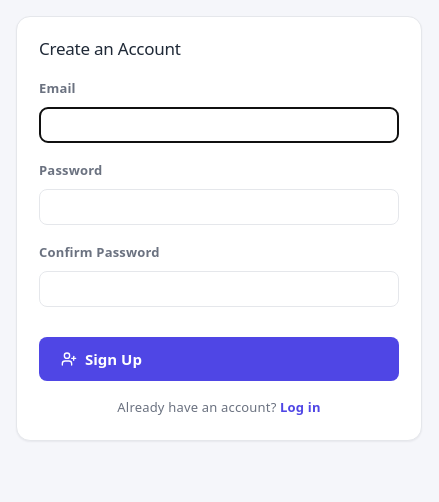
Test: CustomerRegisterPage › shows a specific error when the email is already registered
This screenshot has width=439, height=502.
Type "alice@example.com" into the field labelled "Email". click: {"x": 219, "y": 125}
box: [39,107,399,143]
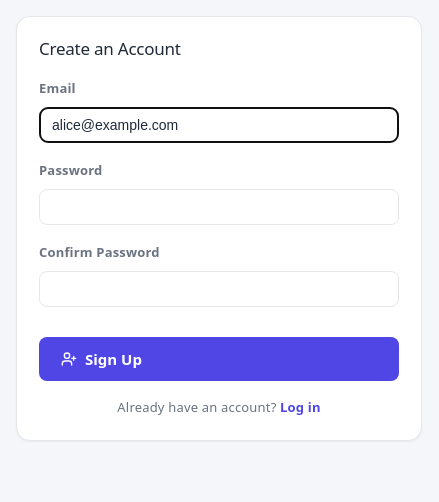
Type "hunter22" into the password field labelled "Password". click: {"x": 219, "y": 207}
box: [39,189,399,225]
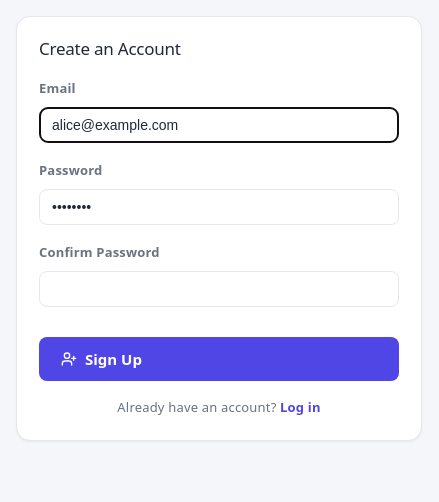
Type "hunter22" into the password field labelled "Confirm Password". click: {"x": 219, "y": 289}
box: [39,271,399,307]
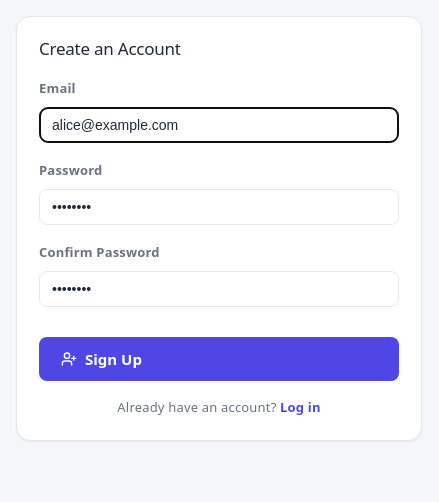
Click the button "Sign Up". click: {"x": 113, "y": 359}
box: [39,337,399,381]
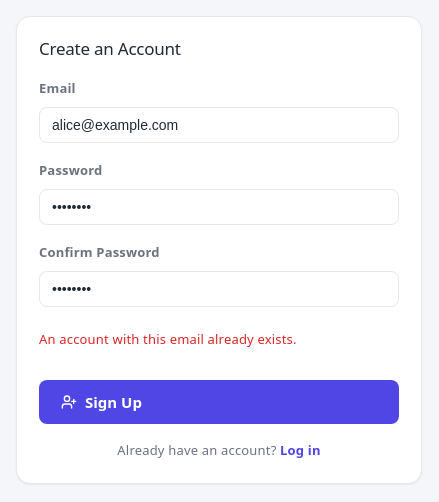
Expected: the text "An account with this email already exists." is shown, [39,330,297,348]
